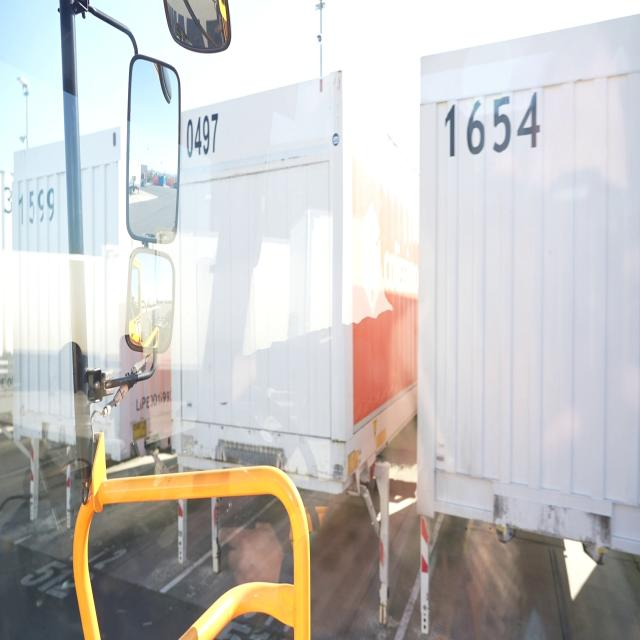Code: (443, 93, 544, 162), (183, 109, 220, 165), (17, 182, 57, 228)
